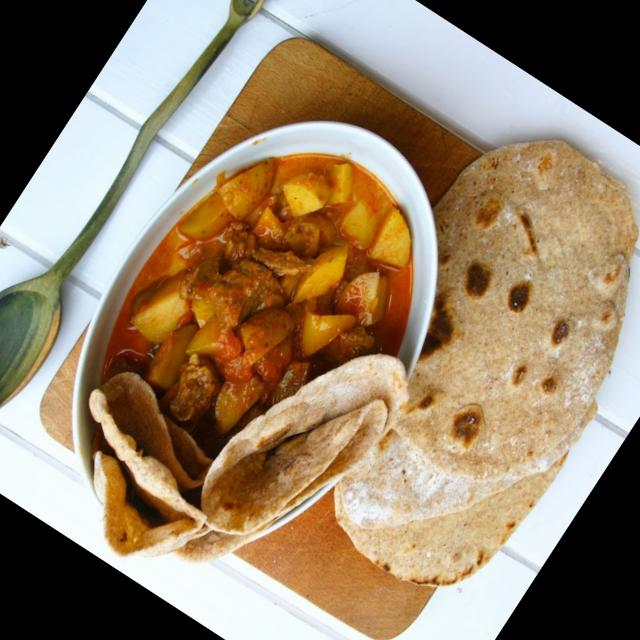roti: (87, 135, 634, 585)
